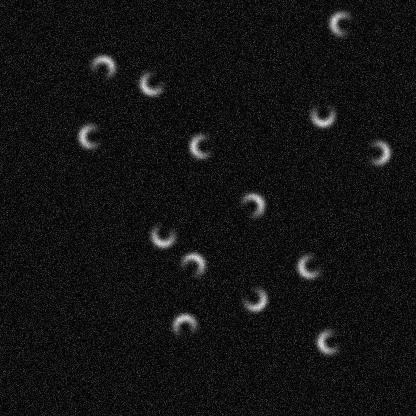Janus: (295, 250, 325, 280), (236, 190, 266, 220), (327, 8, 357, 38), (76, 121, 106, 151), (239, 283, 269, 313), (307, 99, 337, 129), (314, 326, 344, 356), (187, 131, 217, 161), (169, 311, 199, 341), (362, 137, 392, 167), (148, 219, 178, 249), (177, 250, 207, 280), (137, 67, 167, 97), (87, 53, 117, 83)
